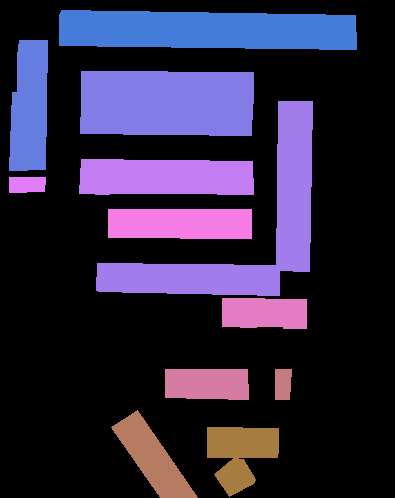parkingspot: (59, 10, 356, 49), (111, 410, 197, 498), (276, 101, 312, 271), (79, 159, 253, 194), (96, 263, 279, 295), (80, 101, 252, 135), (81, 71, 253, 103), (9, 40, 47, 170), (108, 209, 251, 238), (222, 298, 306, 328), (165, 369, 248, 399), (207, 427, 278, 457), (214, 458, 255, 496), (9, 177, 45, 192), (275, 369, 291, 399)
